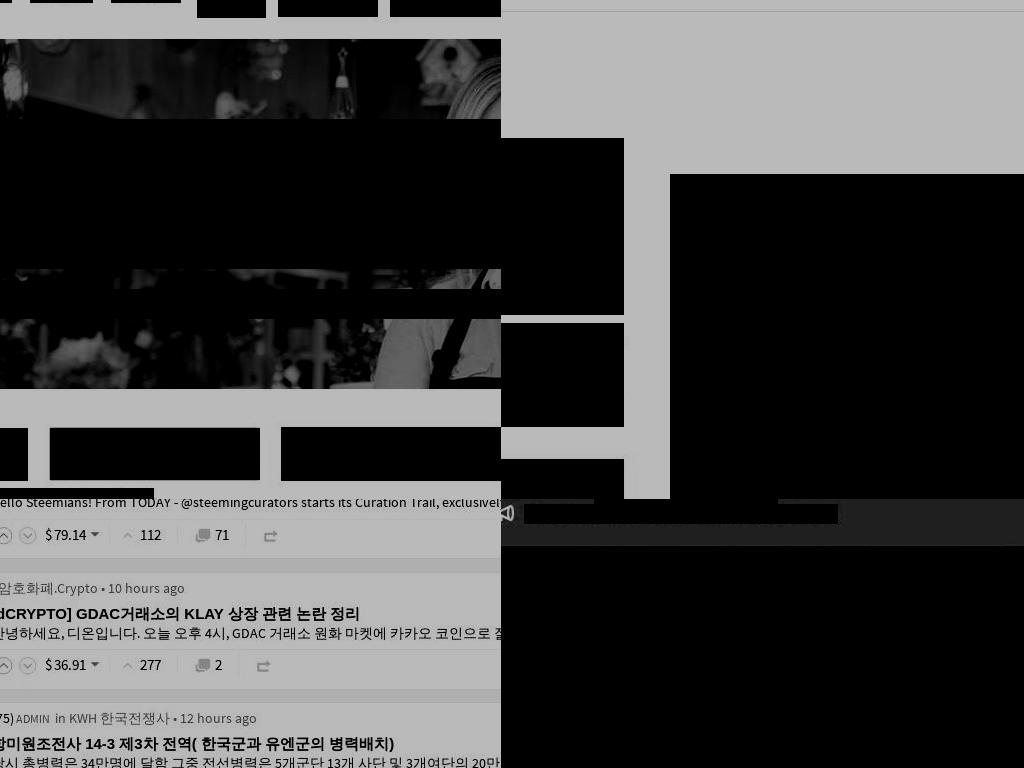button: (501, 546, 1024, 768), (281, 427, 501, 481), (50, 428, 260, 480), (501, 459, 624, 499), (390, 0, 501, 17), (278, 0, 378, 17), (197, 0, 266, 18), (676, 499, 778, 510), (594, 499, 676, 510), (111, 0, 181, 3), (30, 0, 93, 3)
heading: (0, 119, 501, 269), (533, 626, 1024, 730), (501, 138, 624, 315), (0, 289, 501, 319), (0, 734, 394, 752), (0, 604, 360, 622)
image: (501, 546, 1024, 768), (670, 174, 1024, 499), (19, 526, 38, 545), (85, 528, 104, 547), (261, 526, 280, 545), (19, 657, 38, 676), (85, 659, 104, 678), (254, 657, 273, 676), (119, 526, 137, 545), (194, 526, 212, 545), (119, 657, 137, 676), (194, 657, 212, 676), (0, 526, 13, 545), (0, 657, 13, 676), (476, 448, 484, 460), (229, 451, 240, 457)
link: (533, 738, 1024, 768), (0, 623, 501, 642), (0, 753, 501, 768), (0, 499, 501, 512), (68, 708, 170, 727), (0, 578, 98, 597), (77, 488, 154, 499)
text: (501, 323, 624, 427), (281, 427, 501, 481), (625, 504, 838, 524), (524, 504, 625, 524), (390, 0, 501, 17), (279, 0, 377, 17), (179, 708, 257, 727), (108, 578, 185, 597), (70, 445, 132, 463), (0, 488, 77, 499), (16, 710, 51, 726), (140, 524, 161, 544), (140, 654, 161, 674), (67, 524, 86, 544), (67, 654, 86, 674), (53, 524, 68, 544), (214, 524, 229, 544), (53, 654, 68, 674), (0, 708, 14, 727), (54, 708, 66, 727), (169, 708, 180, 727), (45, 524, 55, 544), (45, 654, 55, 674), (98, 578, 108, 597), (214, 654, 222, 674), (222, 0, 255, 4)
